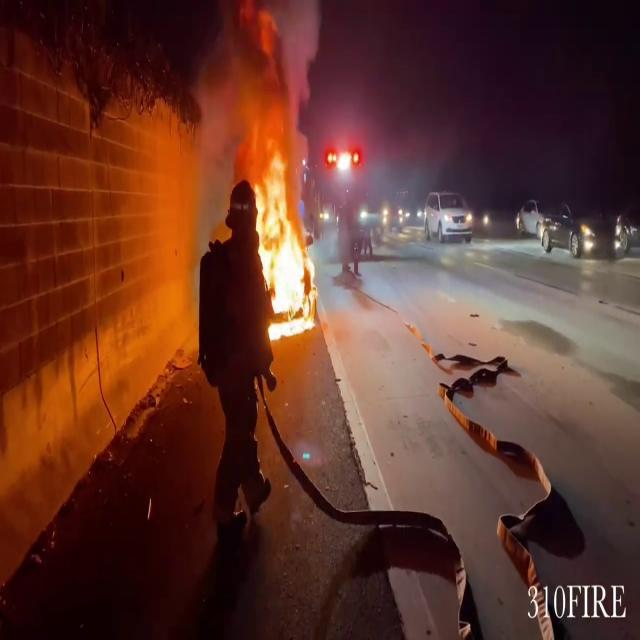Fire: (249, 150, 323, 334)
Smoke: (156, 1, 328, 168)
